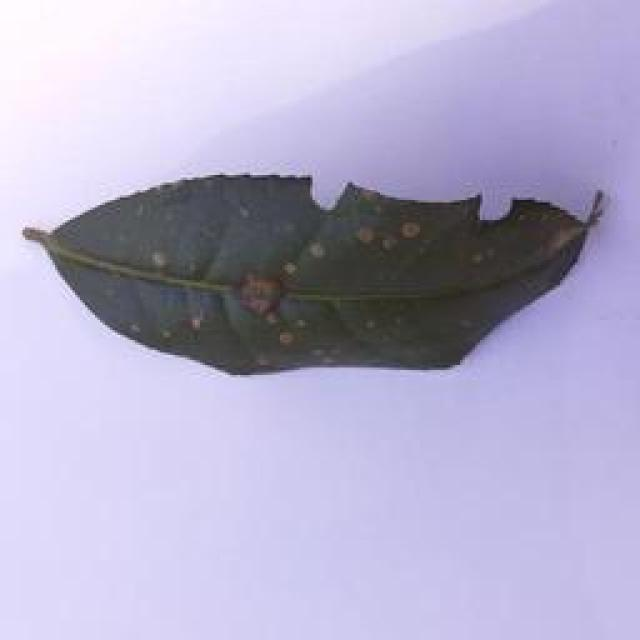Algal Leaf Spot: (20, 171, 614, 384)
